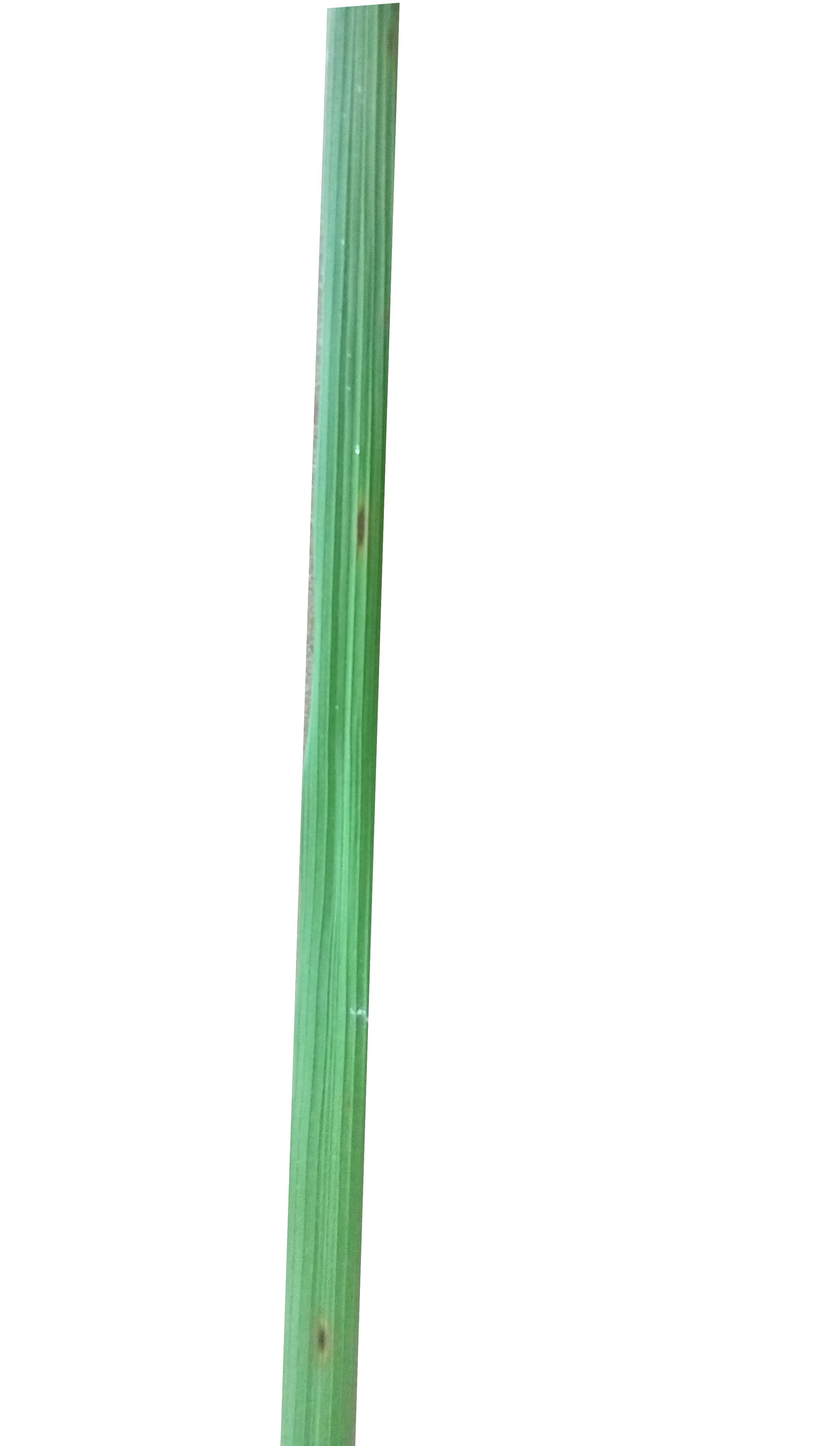Brown spot: (307, 1280, 338, 1381), (351, 480, 372, 580)
